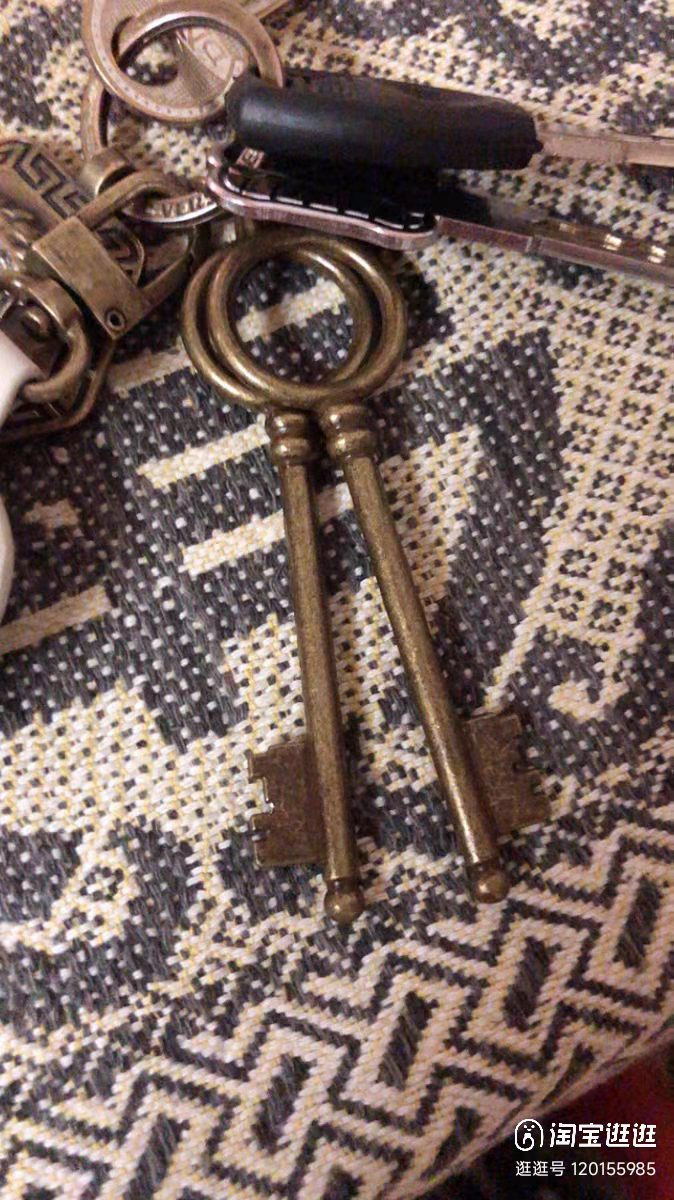key: (195, 213, 559, 910), (157, 236, 413, 910)
